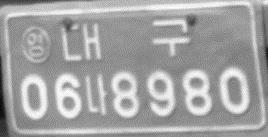0: (219, 66, 251, 115), (19, 73, 49, 120)
6: (54, 72, 83, 120)
8: (181, 67, 212, 116), (110, 71, 141, 119)
9: (145, 70, 177, 118)
나: (84, 73, 108, 116)
대구_D: (59, 16, 192, 64)
영: (20, 25, 53, 64)
